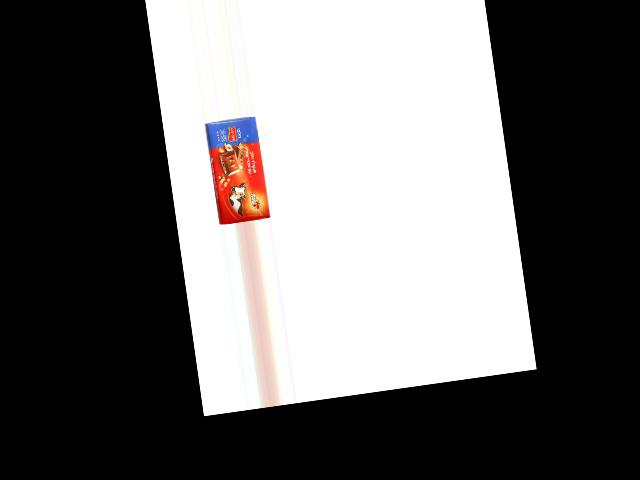chocolate: (200, 117, 269, 225)
